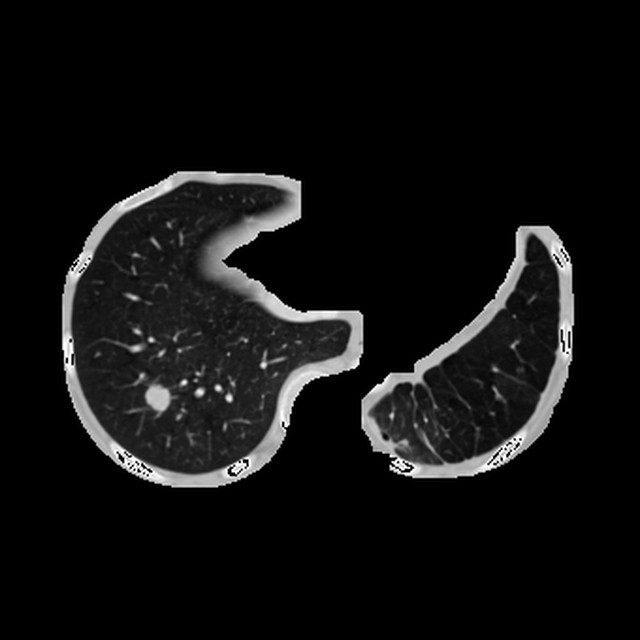PN: (145, 384, 171, 410)
